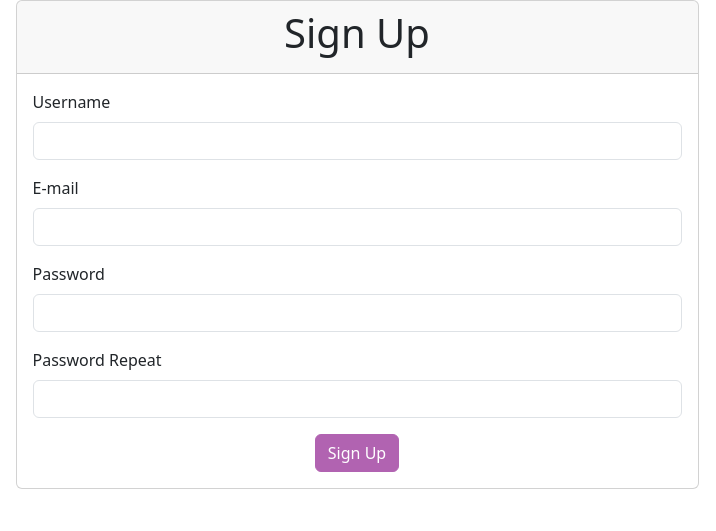
Test: Sign Up › when user sets same value for password inputs › enables button
The width and height of the screenshot is (716, 531).
Type "user1" into the field labelled "Username" at (357, 141), box [32,122,682,160]
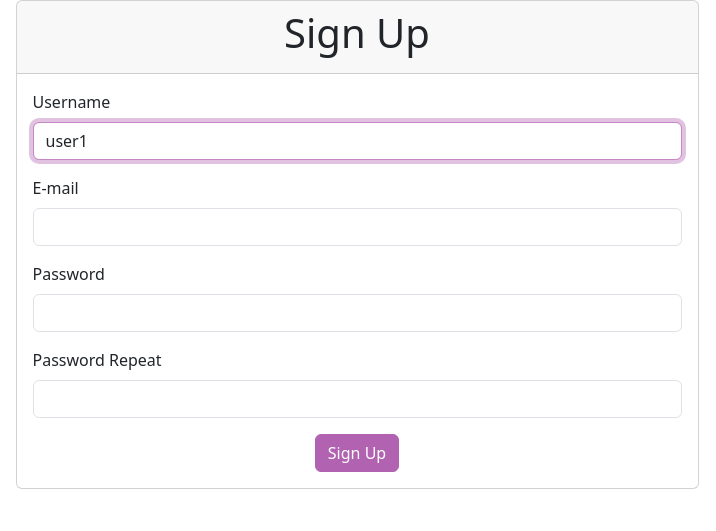
Type "user1@mail.com" into the field labelled "E-mail" at (357, 227), box [32,208,682,246]
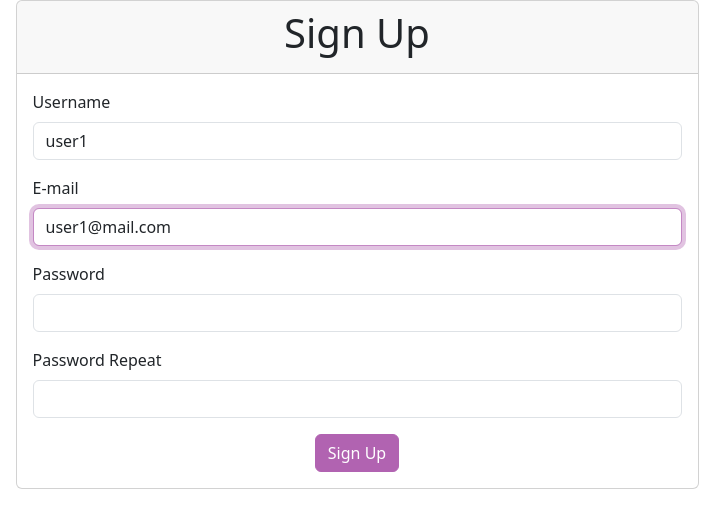
Type "P4ssword" into the password field labelled "Password" at (357, 313), box [32,294,682,332]
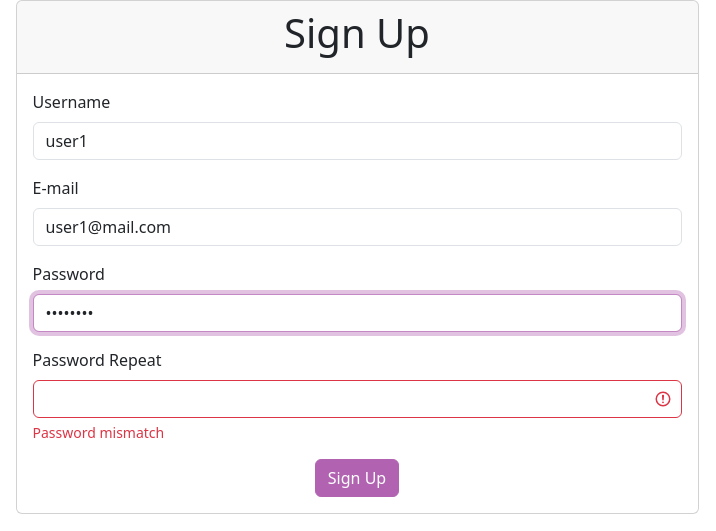
Type "P4ssword" into the password field labelled "Password Repeat" at (357, 399), box [32,380,682,418]
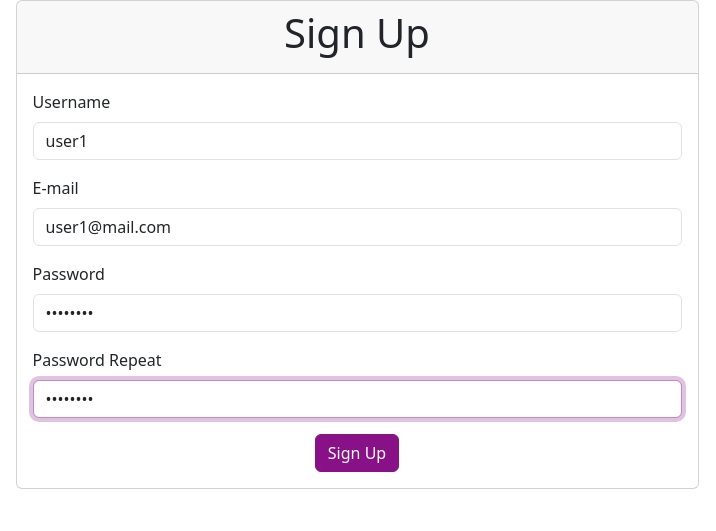
Expected: the button "Sign Up" is enabled, [315,434,399,472]
